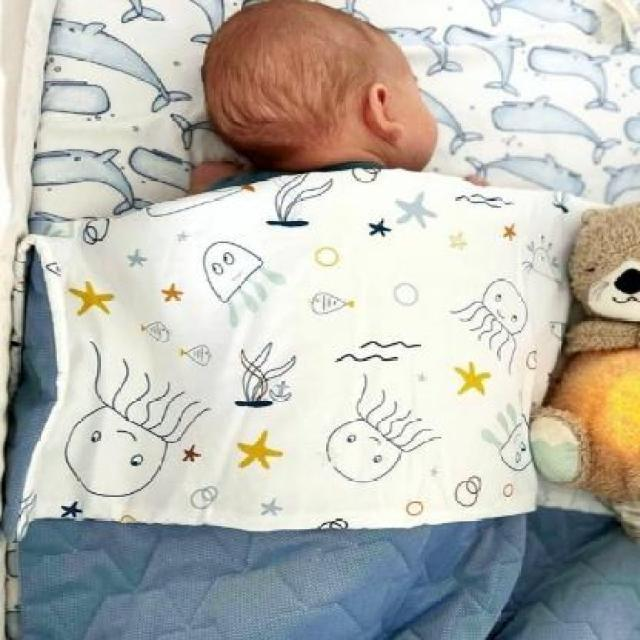baby: (186, 0, 447, 181)
